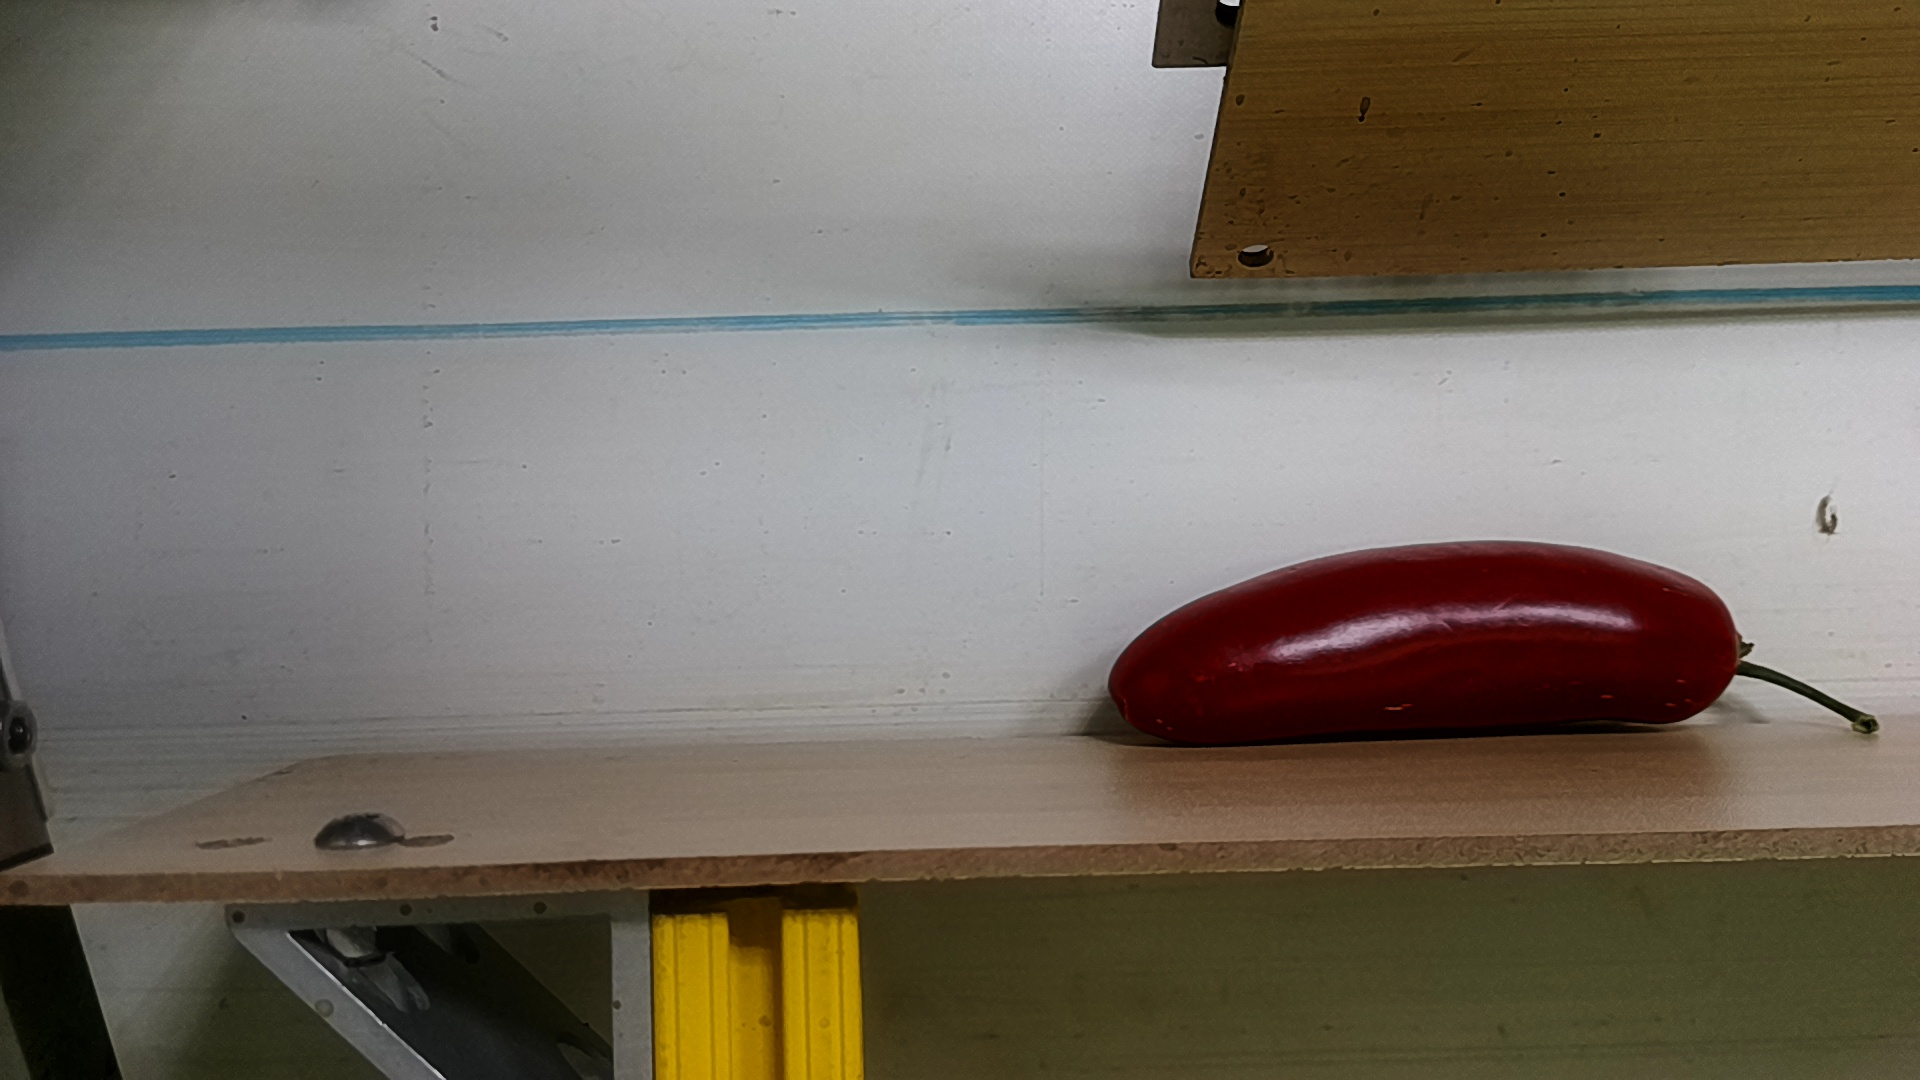Cut Point: (1676, 568, 1767, 735)
